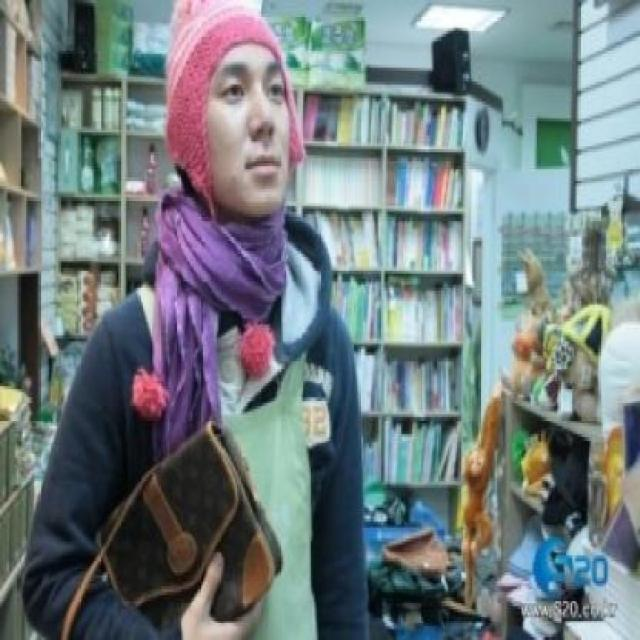hat: (163, 0, 306, 223)
